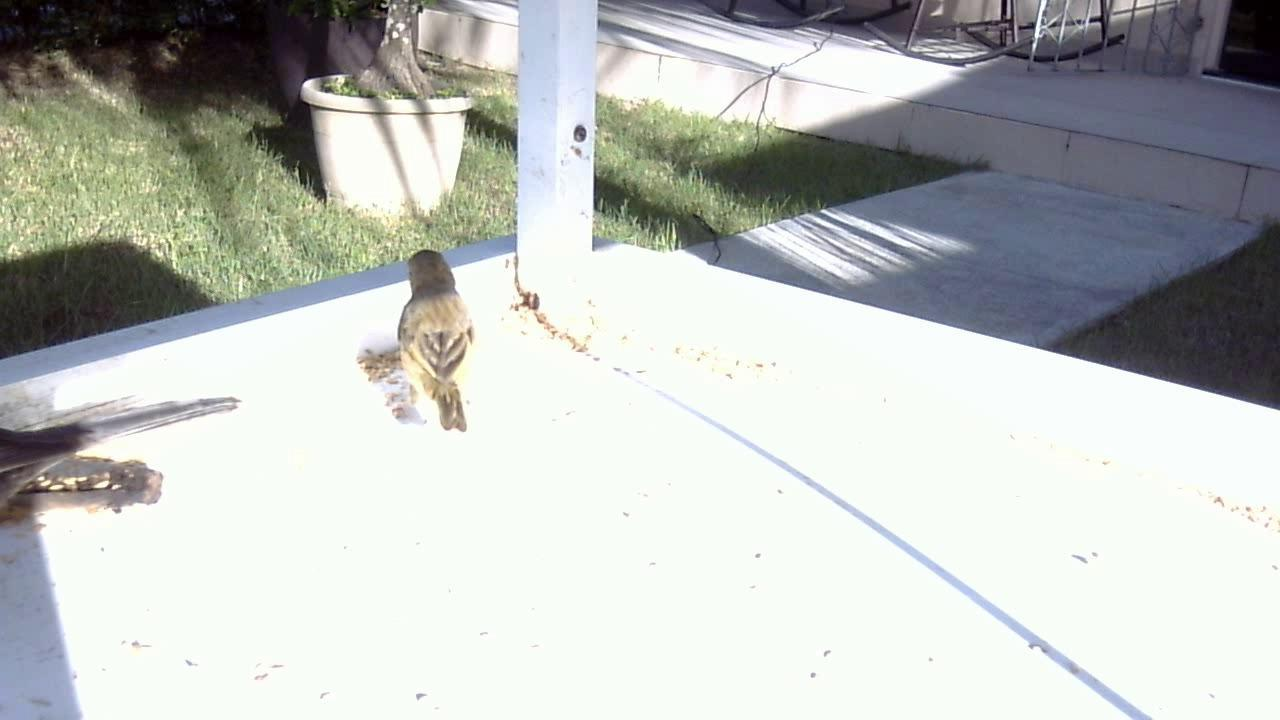canario_do_amazonas: (346, 244, 479, 434)
